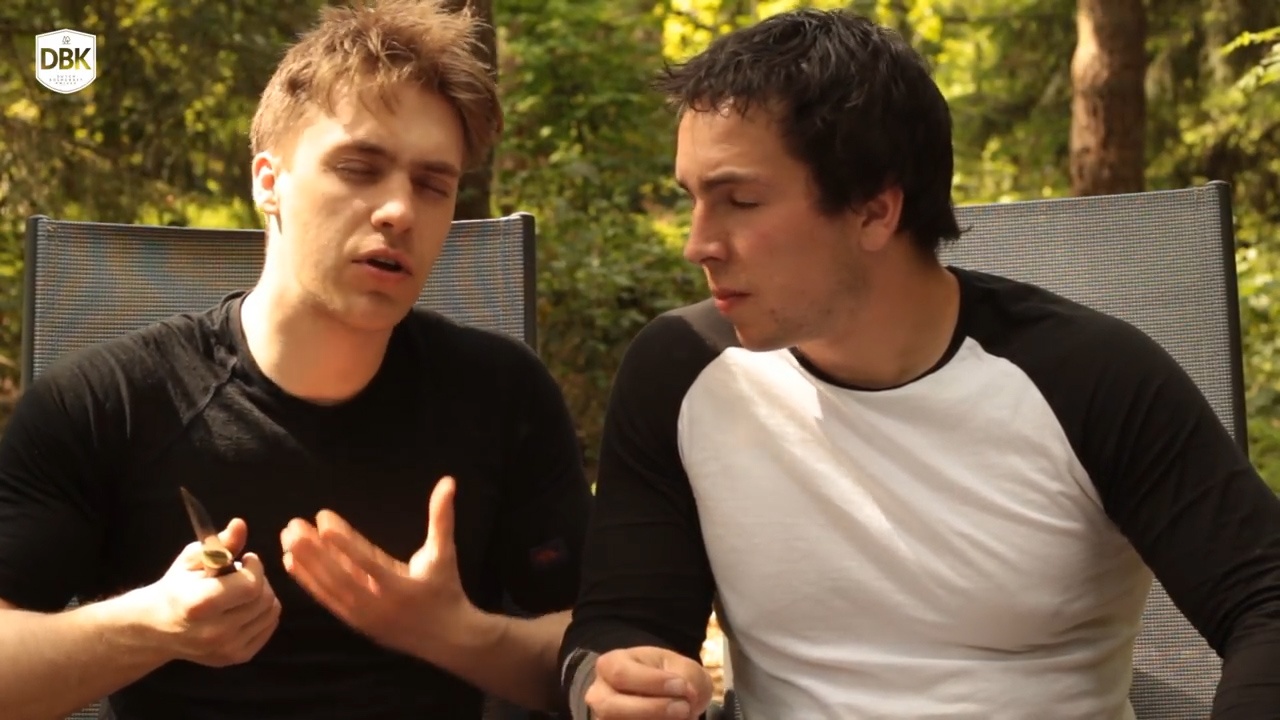knife: (152, 477, 279, 631)
